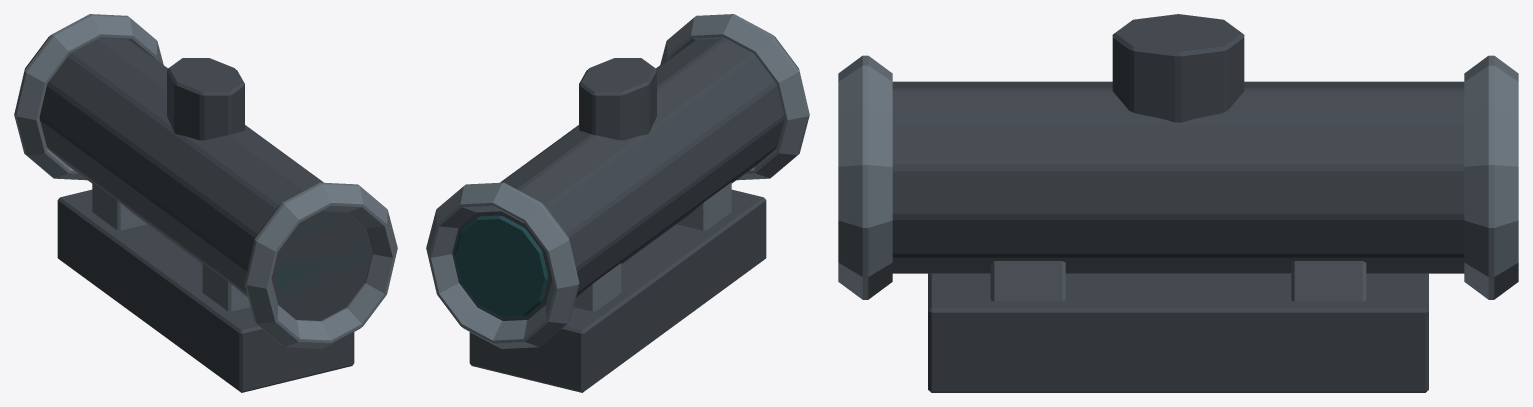
File: Firearm_813.fbx
3 views of the same model, side by side, from view 1: azimuth 30°, elevation 25°; view 2: azimuth 150°, elevation 25°; view 3: azimuth 270°, elevation 25° (orthographic). The views are drawn at different scales.
Parts seen in each view (by area): view 1: Firearm_813; view 2: Firearm_813; view 3: Firearm_813.
Part boxes in pixels (bbox=[...]): Firearm_813: bbox=[14, 14, 397, 392]; Firearm_813: bbox=[426, 14, 809, 392]; Firearm_813: bbox=[838, 14, 1518, 392].
Bounding box in the file's own units: 0.0948 × 0.1425 × 0.2717.
